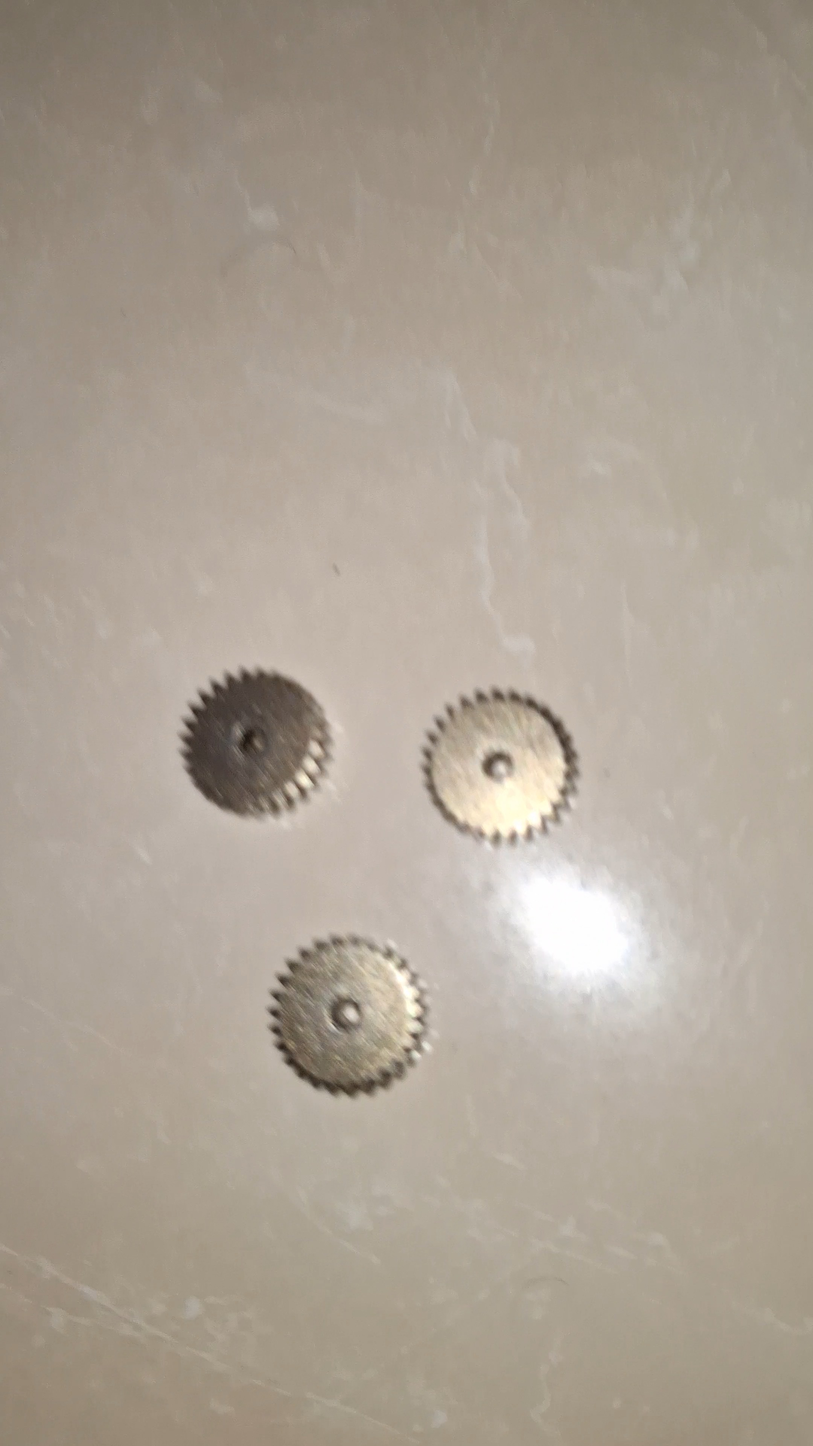spur gear: (270, 937, 426, 1094), (425, 690, 577, 842), (182, 671, 329, 814)
